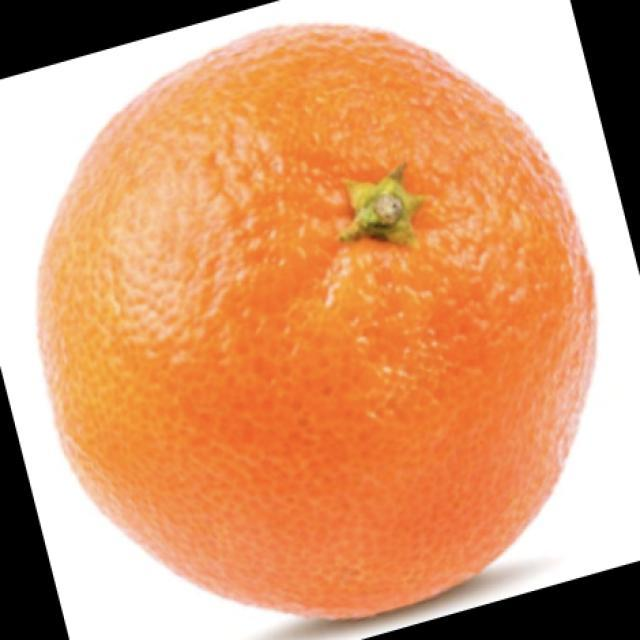matang: (39, 26, 594, 617)
